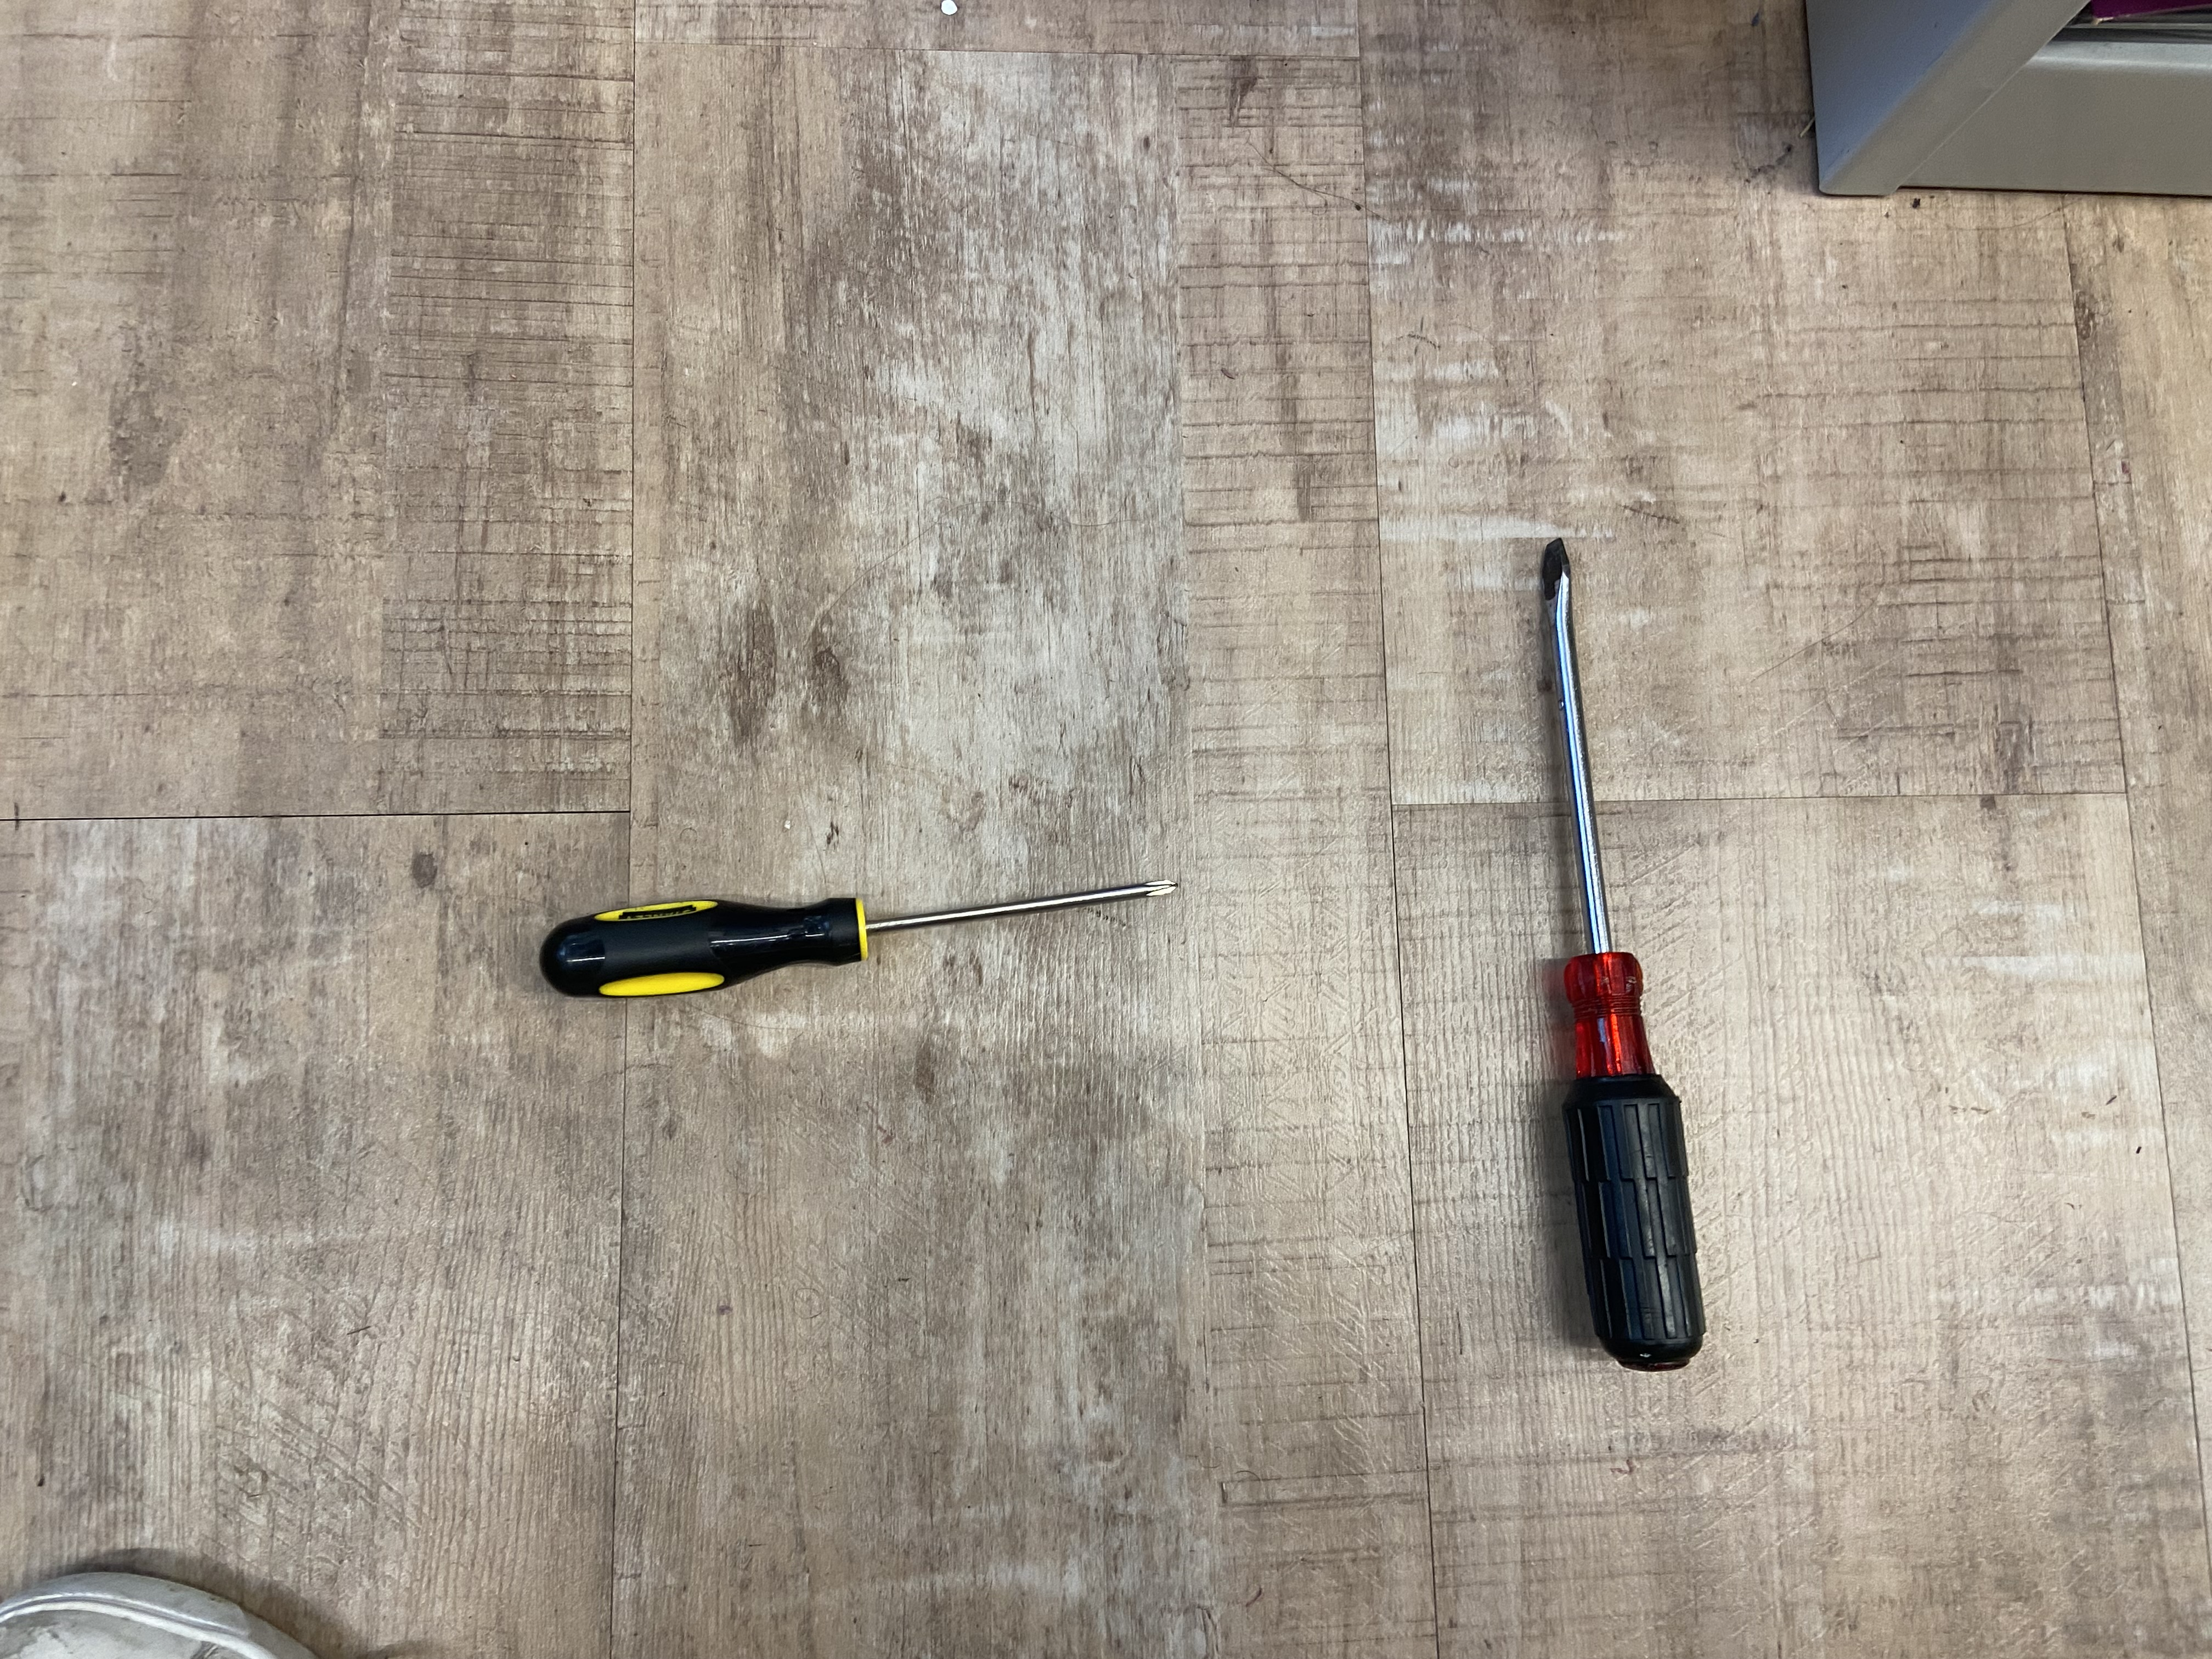screwdriver: (1527, 540, 1714, 1366), (545, 870, 1184, 1004)
